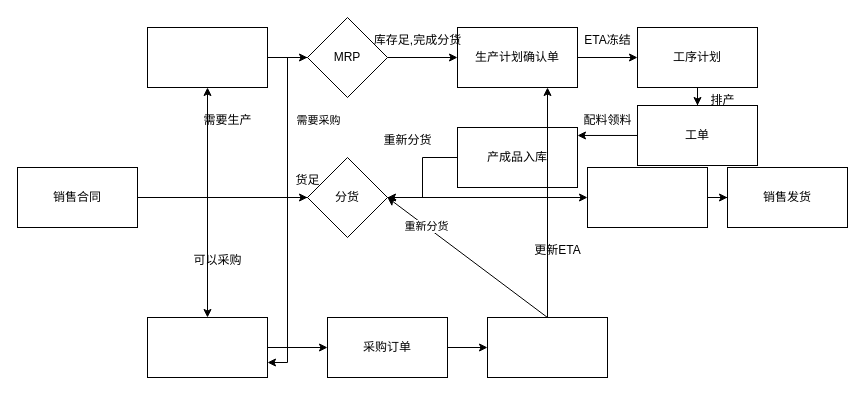
This 865x395 diagram has some shape labels left out. Each missing label, with the centre of its shape:
入库单: point 547,347
生产订单: point 207,57
采购计划: point 207,347
销售订单: point 647,197
